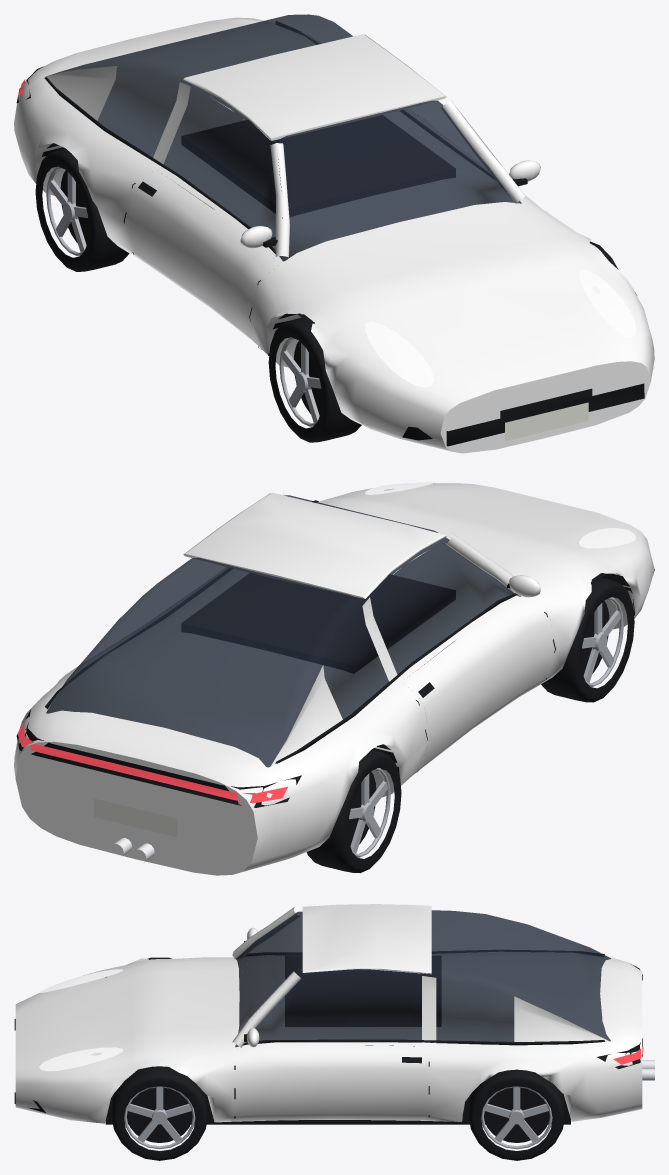
File: apexon_strix.lod.glb
3 views of the same model, one above another, from view 1: azimuth 30°, elevation 25°; view 2: azimuth 150°, elevation 25°; view 3: azimuth 270°, elevation 25° (orthographic). The views are drawn at different scales.
Visible parts, largest first — view 1: body_paint, body_glass, body_trim, door_glass (×2), door_paint, tire (×2), headlights, rim (×2); view 2: body_paint, body_glass, body_trim, door_paint, door_glass, tire (×2), rim (×2), taillights, headlights, rim_back (×2), mirror_r_paint; view 3: body_paint, body_glass, door_paint, body_trim, door_glass (×2), tire (×2), rim_back (×2), rim (×2), headlights.
Part boxes in pixels (x1=…): body_paint: x1=14, y1=17, x2=654, y2=453; body_glass: x1=49, y1=14, x2=485, y2=236; body_trim: x1=16, y1=21, x2=644, y2=446; door_glass (×2): x1=163, y1=88, x2=521, y2=261; door_paint: x1=128, y1=85, x2=282, y2=345; tire (×2): x1=35, y1=148, x2=361, y2=442; headlights: x1=365, y1=270, x2=636, y2=387; rim (×2): x1=46, y1=166, x2=321, y2=427; body_paint: x1=14, y1=483, x2=654, y2=875; body_glass: x1=46, y1=495, x2=440, y2=767; body_trim: x1=16, y1=500, x2=654, y2=837; door_paint: x1=368, y1=534, x2=555, y2=774; door_glass: x1=366, y1=537, x2=513, y2=674; tire (×2): x1=306, y1=577, x2=634, y2=873; rim (×2): x1=349, y1=597, x2=623, y2=857; taillights: x1=17, y1=722, x2=287, y2=803; headlights: x1=365, y1=482, x2=635, y2=548; rim_back (×2): x1=348, y1=601, x2=609, y2=845; mirror_r_paint: x1=509, y1=575, x2=540, y2=597; body_paint: x1=15, y1=904, x2=642, y2=1123; body_glass: x1=239, y1=910, x2=610, y2=1044; door_paint: x1=233, y1=974, x2=425, y2=1121; body_trim: x1=14, y1=950, x2=642, y2=1124; door_glass (×2): x1=235, y1=912, x2=422, y2=1047; tire (×2): x1=111, y1=1068, x2=565, y2=1160; rim_back (×2): x1=126, y1=1087, x2=549, y2=1142; rim (×2): x1=124, y1=1086, x2=552, y2=1149; headlights: x1=39, y1=969, x2=122, y2=1071.
Bounding box in the file's own units: 1.96 × 1.32 × 4.5.
